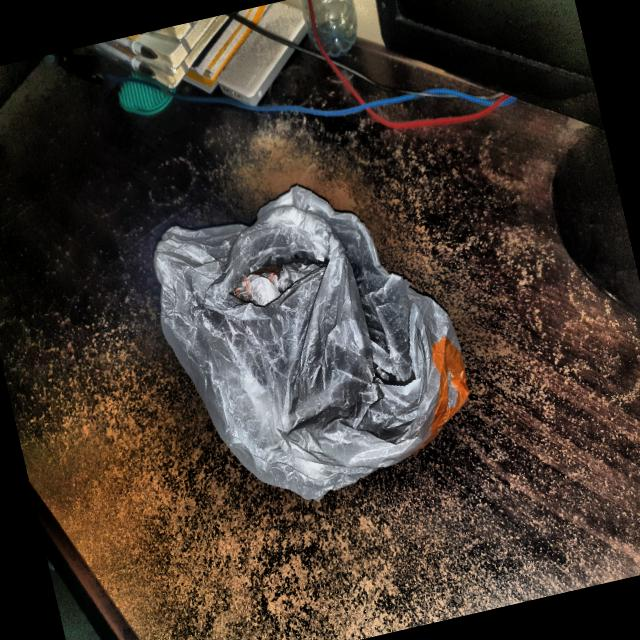plastic bag: (128, 154, 492, 542)
